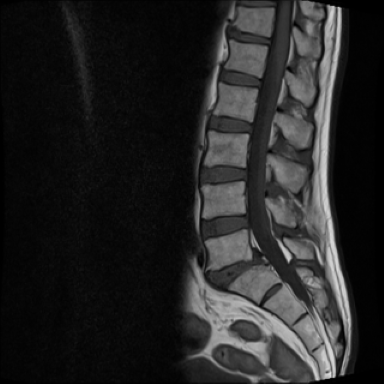Degenerative Disc Disease (DDD): (221, 23, 276, 50)
Lumbar Disc Bulge (LDB): (199, 245, 271, 296)
Normal IVD: (196, 209, 252, 243), (194, 160, 253, 186), (201, 113, 258, 137), (212, 66, 266, 90)
Spondylolisthesis: (189, 252, 296, 313)
